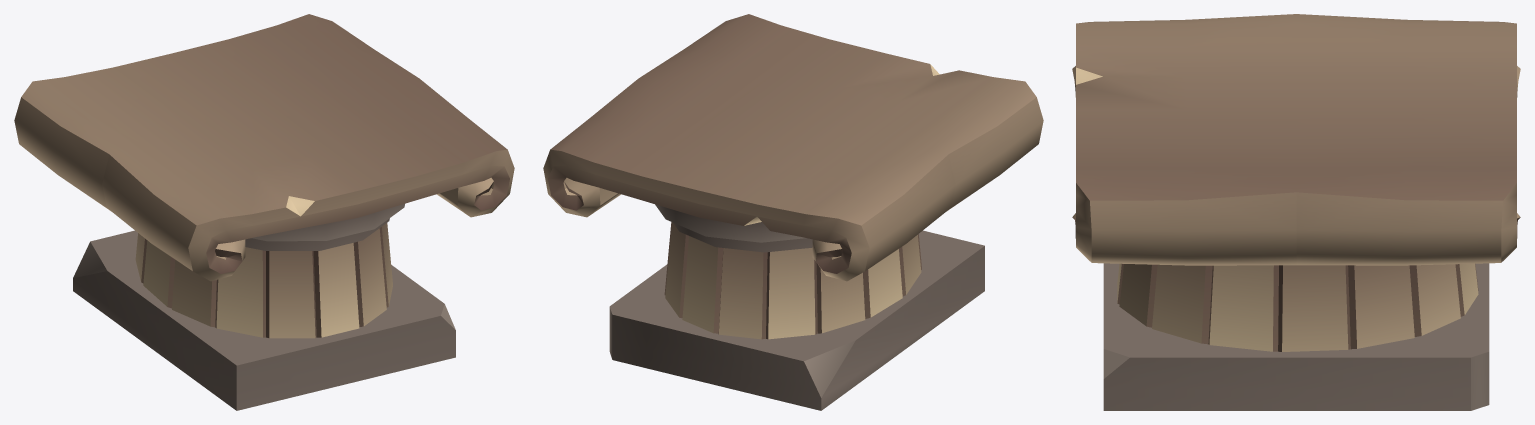
3 renders of one model, left to right at view 1: azimuth 30°, elevation 25°; view 2: azimuth 150°, elevation 25°; view 3: azimuth 270°, elevation 25°, orthographic. The views are drawn at different scales.
Parts seen in each view (by area): view 1: 3D_Lobby_Base; view 2: 3D_Lobby_Base; view 3: 3D_Lobby_Base.
Part boxes in pixels (x1,y1,x2,y2): 3D_Lobby_Base: (14, 14, 514, 410); 3D_Lobby_Base: (543, 14, 1043, 410); 3D_Lobby_Base: (1072, 14, 1520, 410).
Size of the model in its own units: 1 by 0.6025 by 1.
